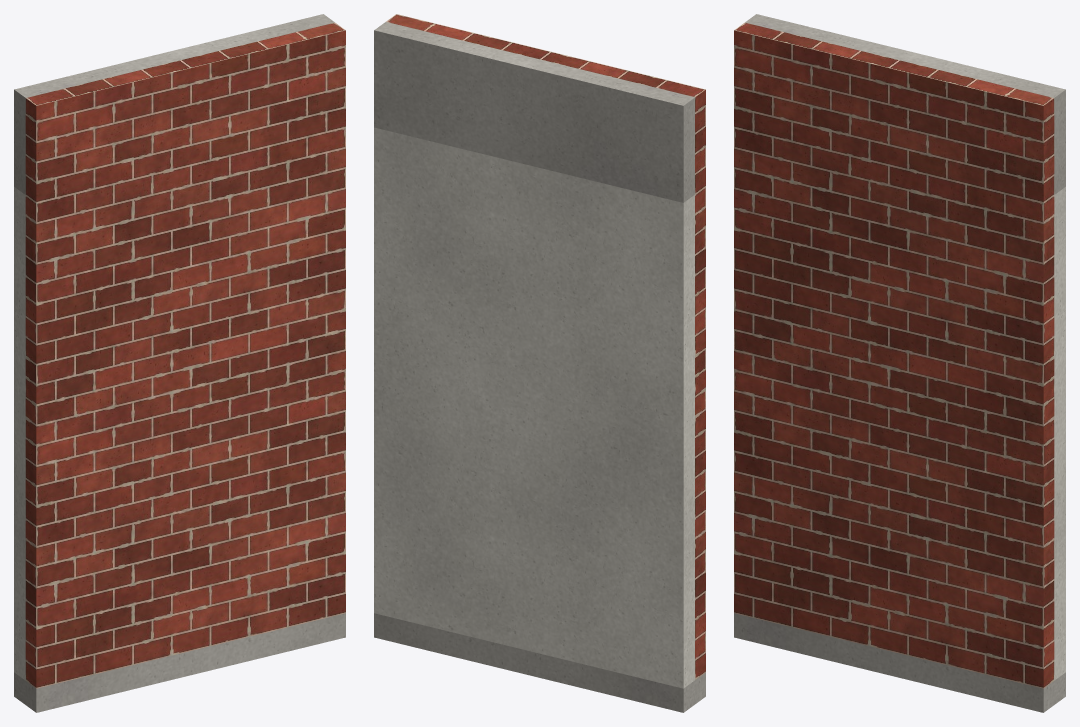
File: w_plain.glb
3 renders of one model, left to right at view 1: azimuth 30°, elevation 25°; view 2: azimuth 150°, elevation 25°; view 3: azimuth 330°, elevation 25°, orthographic.
Visible parts, largest first — view 1: w_plain_brick, w_plain_concrete, w_plain_plaster; view 2: w_plain_plaster, w_plain_concrete, w_plain_brick; view 3: w_plain_brick, w_plain_concrete, w_plain_plaster.
Boxes of the visible parts, x1,y1,x2,y2 form: w_plain_brick: (25, 22, 345, 688); w_plain_concrete: (14, 14, 345, 712); w_plain_plaster: (14, 187, 25, 680); w_plain_plaster: (374, 127, 694, 688); w_plain_concrete: (374, 22, 705, 712); w_plain_brick: (386, 14, 705, 679); w_plain_brick: (734, 22, 1054, 688); w_plain_concrete: (734, 14, 1065, 712); w_plain_plaster: (1054, 187, 1065, 680).
Bounding box in the file's own units: 2 × 3.75 × 0.25.
Materials: 3 (3 with a texture image).
